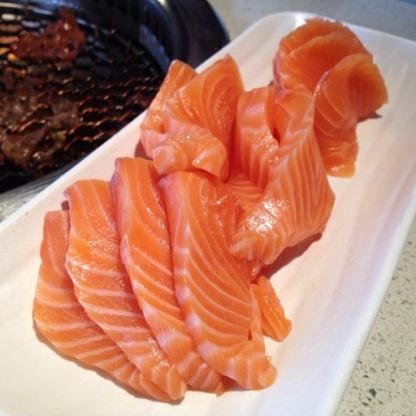salmon: (154, 17, 390, 240), (64, 180, 206, 395), (110, 161, 228, 392), (27, 209, 173, 394), (159, 171, 277, 391)
